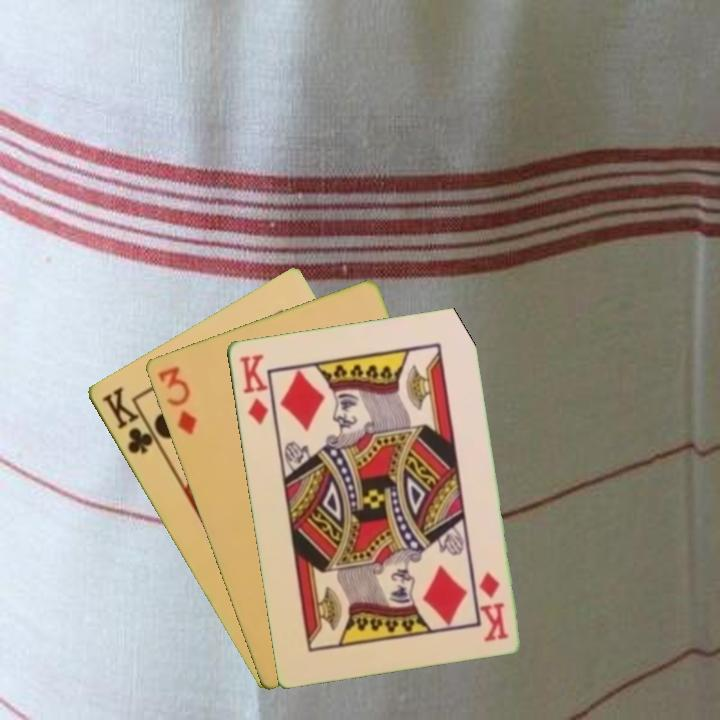3d: (153, 363, 199, 437)
Kc: (98, 383, 162, 457)
Kd: (235, 350, 271, 427), (475, 568, 510, 644)
